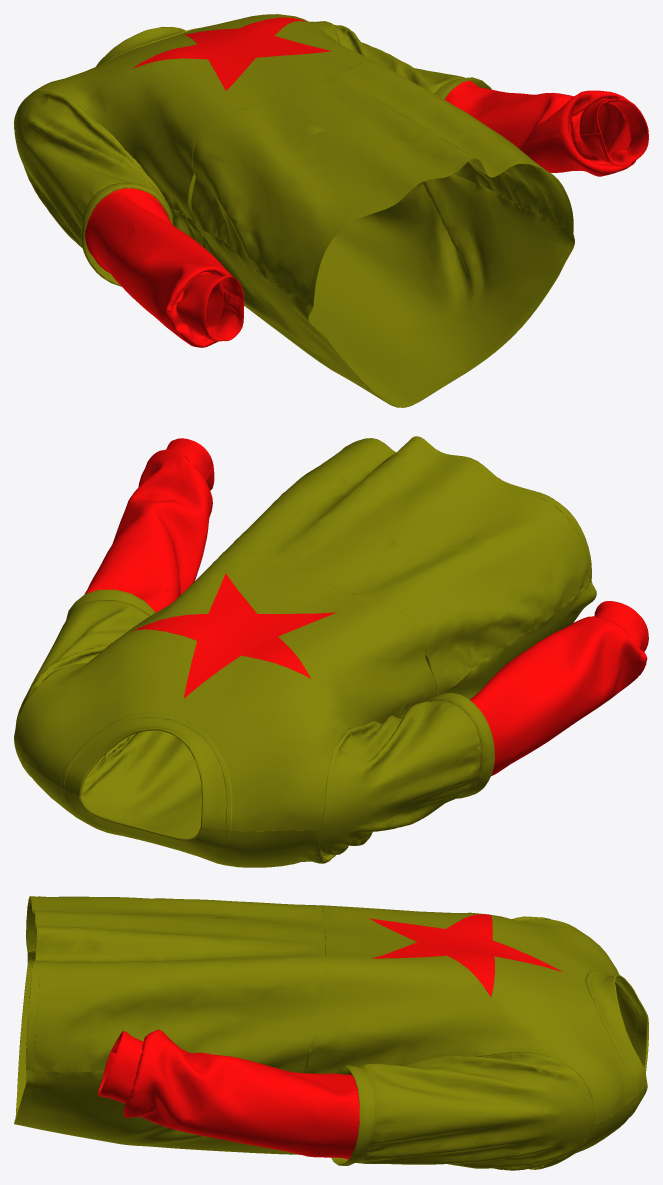
Rendered from longsleeve.obj.
The picture shows the model from 3 angles, top to bottom: view 1: azimuth 30°, elevation 25°; view 2: azimuth 150°, elevation 25°; view 3: azimuth 270°, elevation 25°; orthographic projection. The views are drawn at different scales.
Visible parts, largest first — view 1: Green_TAU5; view 2: Green_TAU5; view 3: Green_TAU5.
Part boxes in pixels (left/top/right/bottom): Green_TAU5: left=14, top=14, right=648, bottom=407; Green_TAU5: left=14, top=436, right=648, bottom=867; Green_TAU5: left=14, top=896, right=648, bottom=1170.
Bounding box in the file's own units: 3.01 × 1.34 × 3.37.
